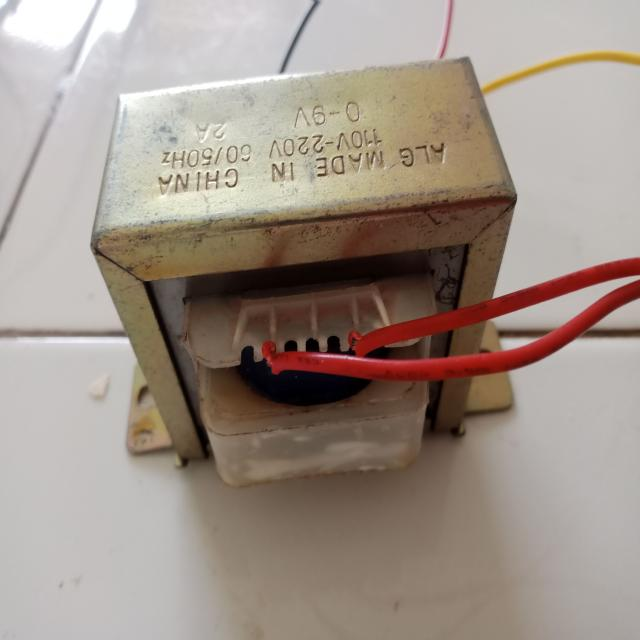Stepdown Transformer: (76, 49, 528, 491)
